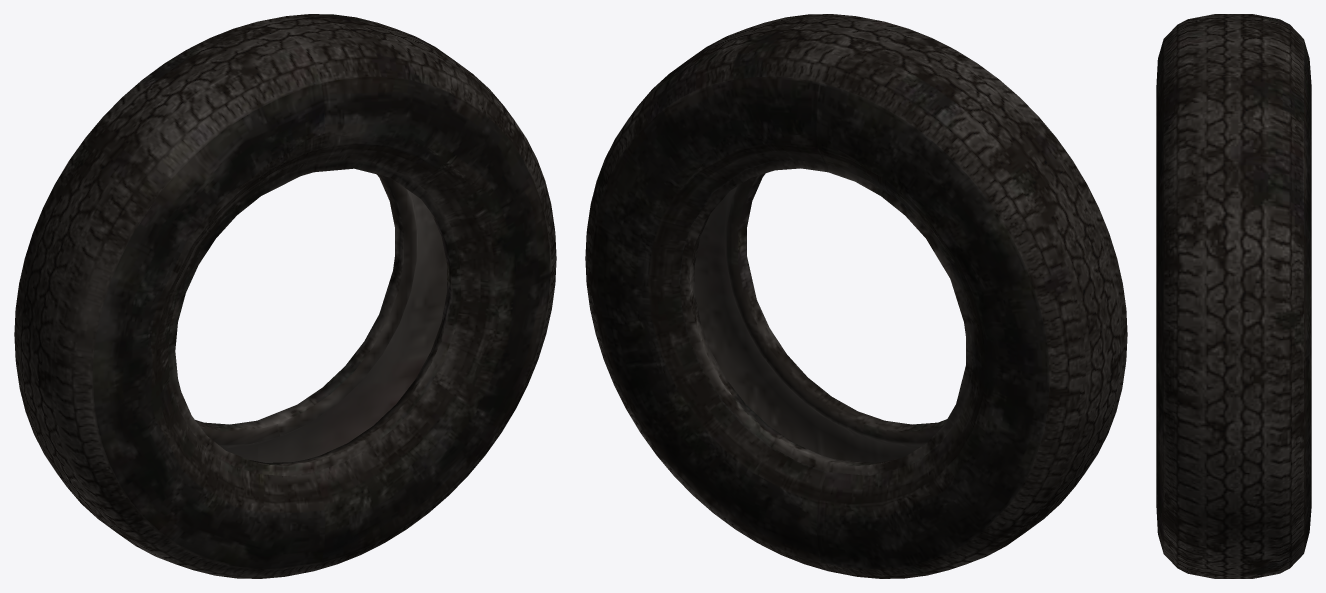
The model's file is tyre_old.glb.
3 views of the same model, side by side, from view 1: azimuth 30°, elevation 25°; view 2: azimuth 150°, elevation 25°; view 3: azimuth 270°, elevation 25° (orthographic). The views are drawn at different scales.
Parts seen in each view (by area): view 1: old_tyre; view 2: old_tyre; view 3: old_tyre.
Part boxes in pixels (bbox=[...]): old_tyre: bbox=[14, 14, 556, 578]; old_tyre: bbox=[585, 14, 1127, 578]; old_tyre: bbox=[1156, 14, 1311, 578].
Bounding box in the file's own units: 0.6 × 0.6 × 0.165.
1 material, 1 textured.
